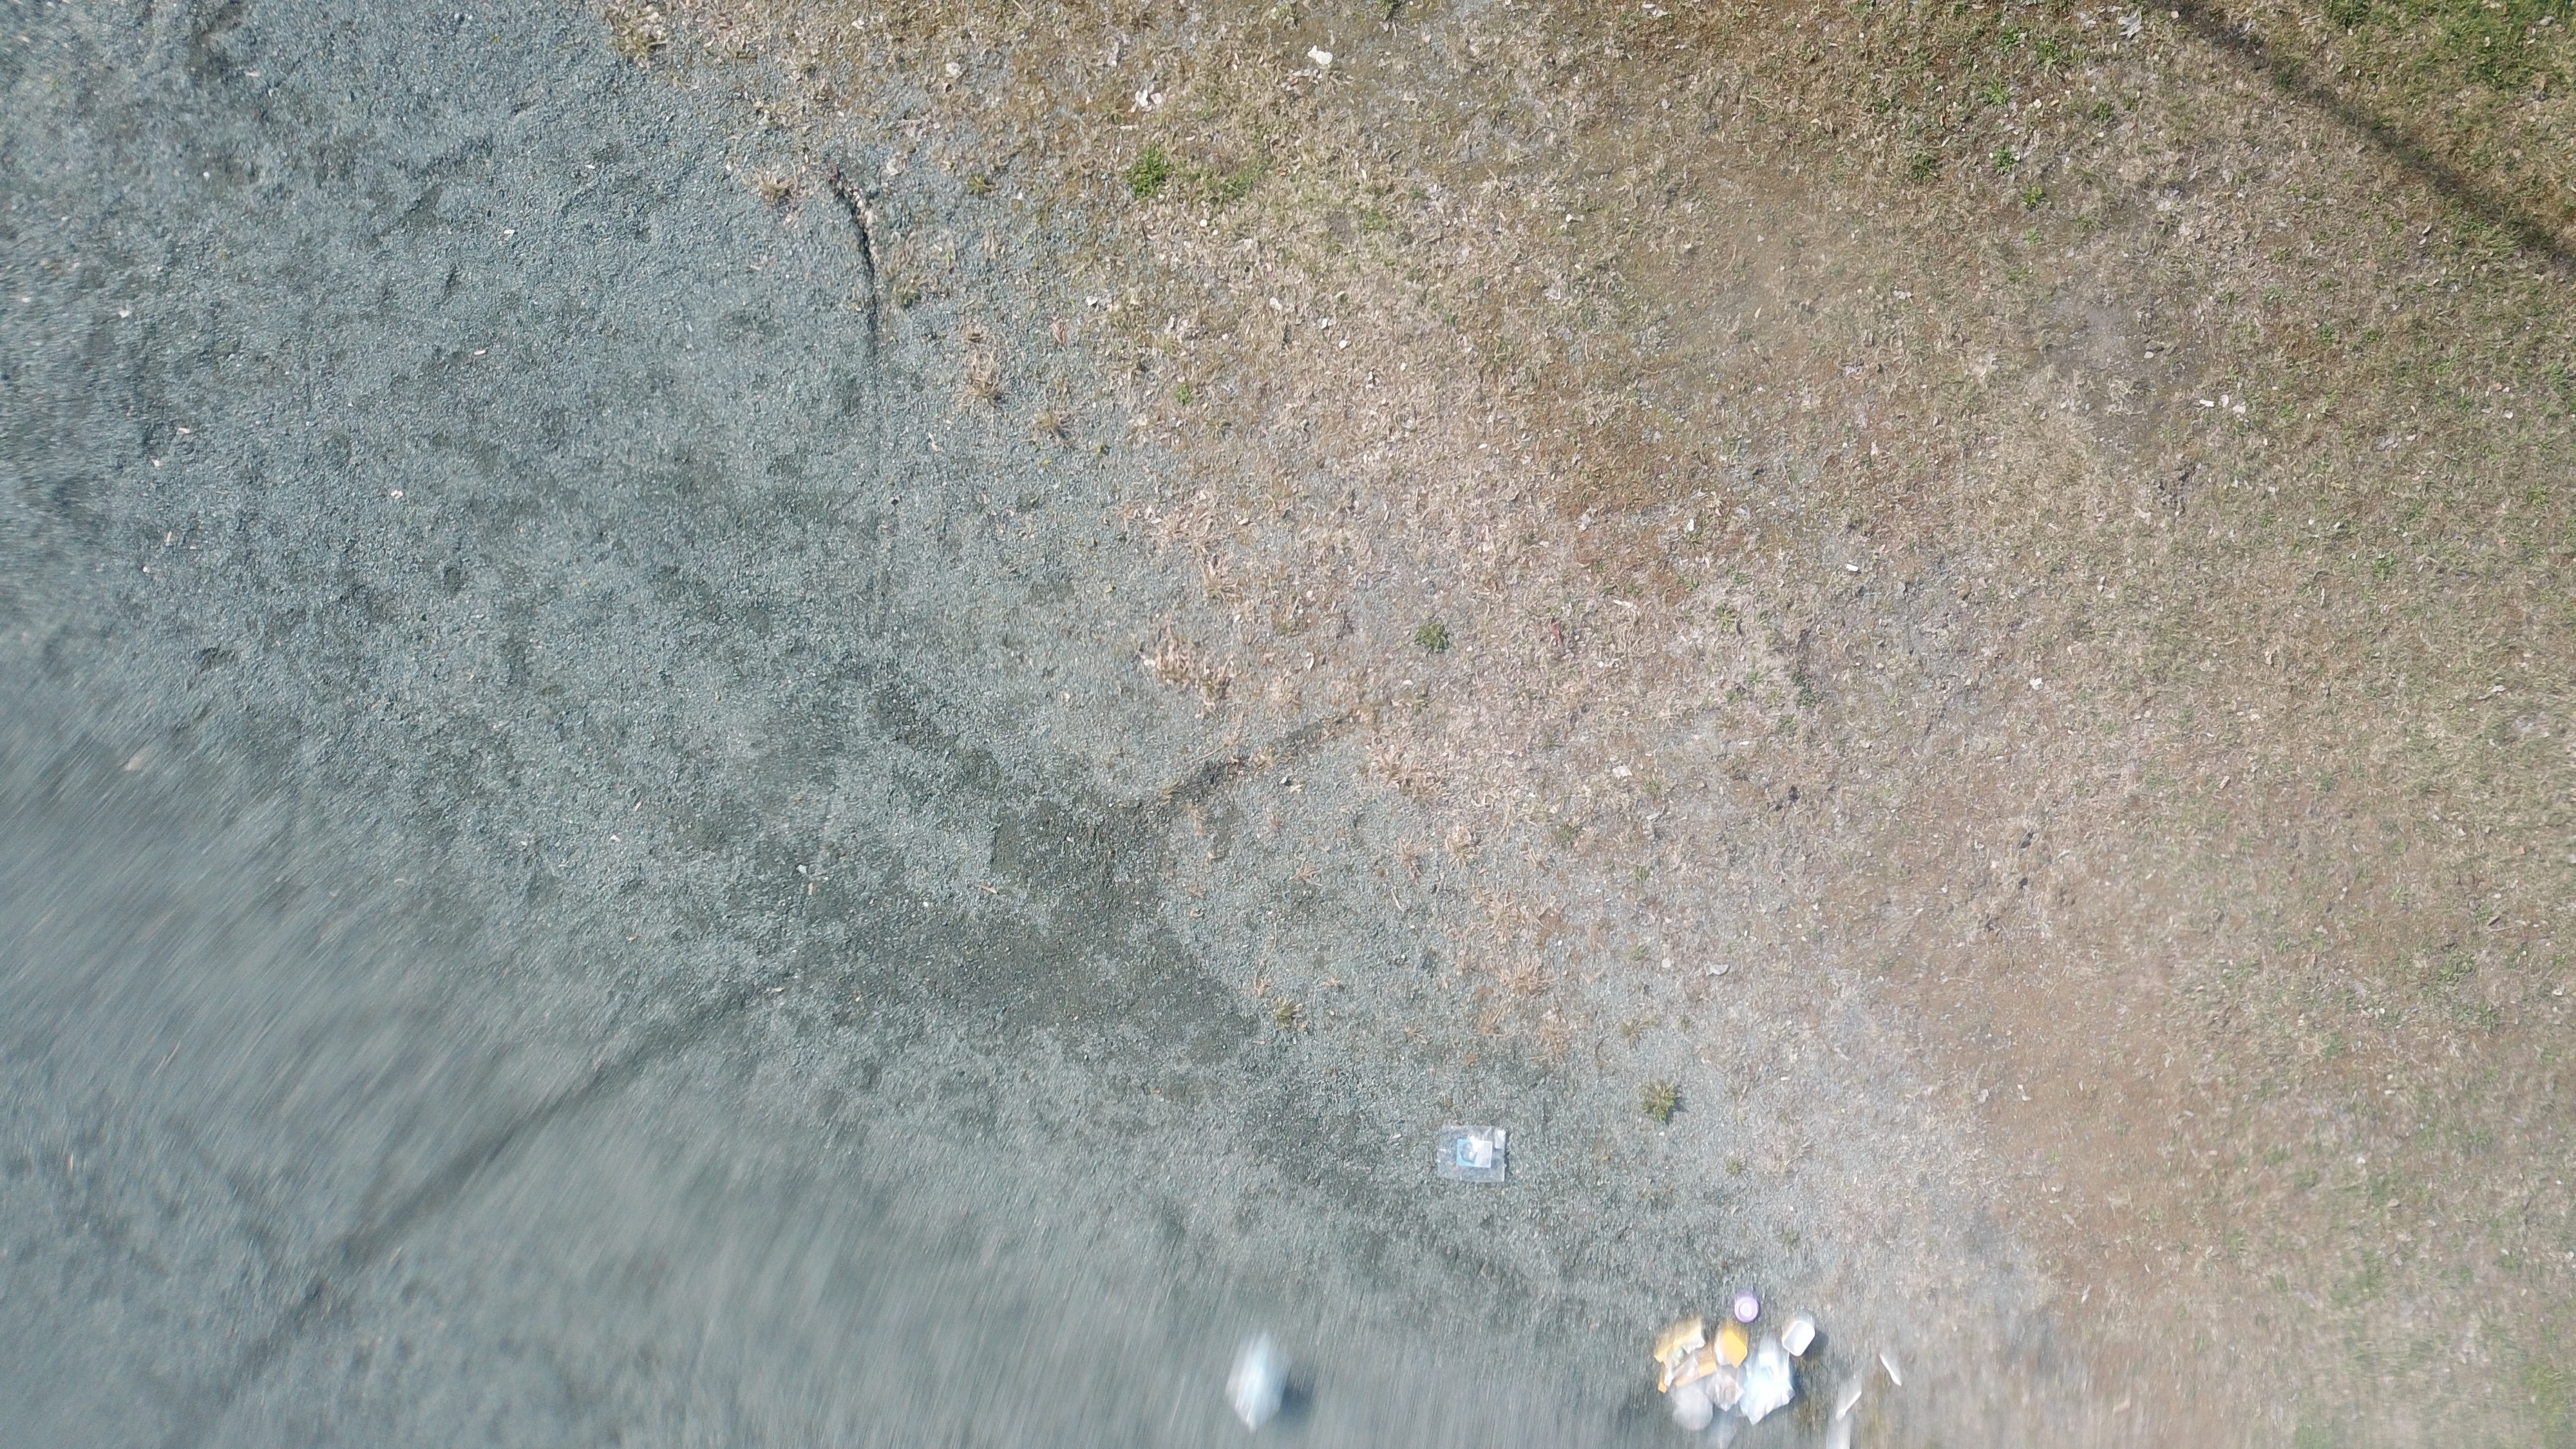Plastic: (1224, 1338, 1292, 1433), (1730, 1350, 1796, 1426), (1652, 1320, 1718, 1394), (1435, 1123, 1507, 1185), (1668, 1380, 1707, 1435), (1711, 1361, 1741, 1428), (1716, 1329, 1753, 1369), (1782, 1320, 1817, 1359), (1835, 1389, 1863, 1422), (1879, 1353, 1904, 1387), (1734, 1297, 1760, 1323)
